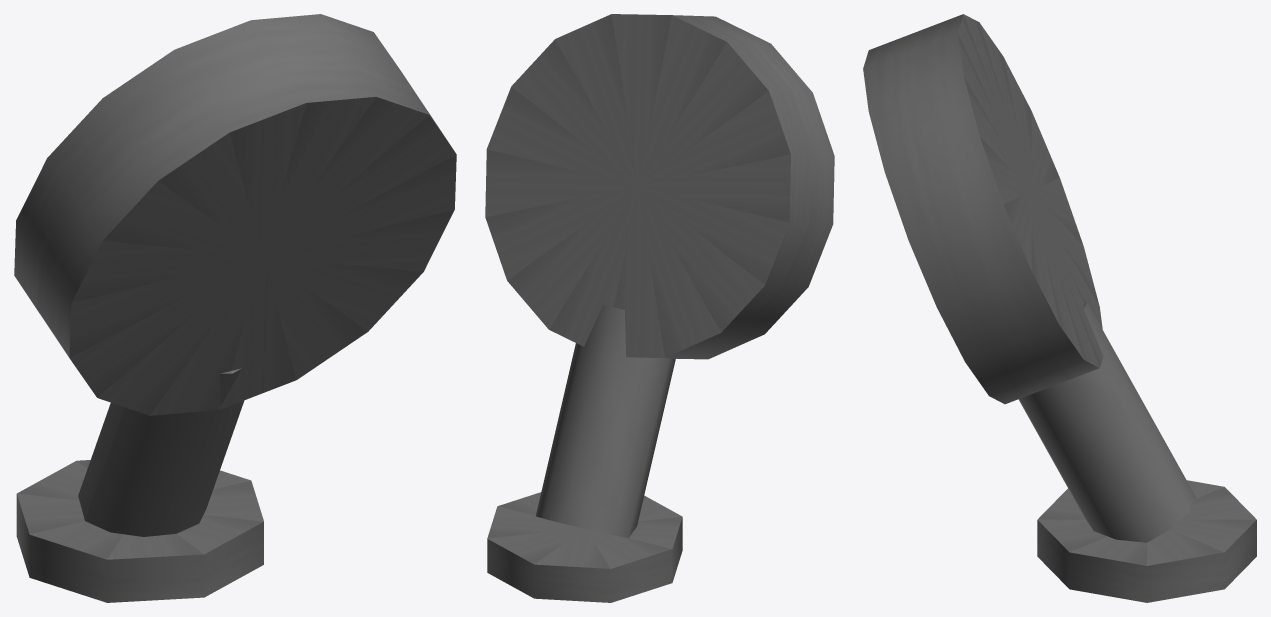
The model's file is mastarmcurve_6x2_c3_down.obj.
3 renders of one model, left to right at view 1: azimuth 30°, elevation 25°; view 2: azimuth 150°, elevation 25°; view 3: azimuth 270°, elevation 25°, orthographic. The views are drawn at different scales.
Visible parts, largest first — view 1: mastarm_6x2_c3_down; view 2: mastarm_6x2_c3_down; view 3: mastarm_6x2_c3_down.
Part boxes in pixels (box(x1,y1,x2,y2)): mastarm_6x2_c3_down: box(14, 14, 456, 602); mastarm_6x2_c3_down: box(485, 14, 834, 602); mastarm_6x2_c3_down: box(863, 14, 1256, 602).
Bounding box in the file's own units: 0.6916 × 1.05 × 0.7177.
